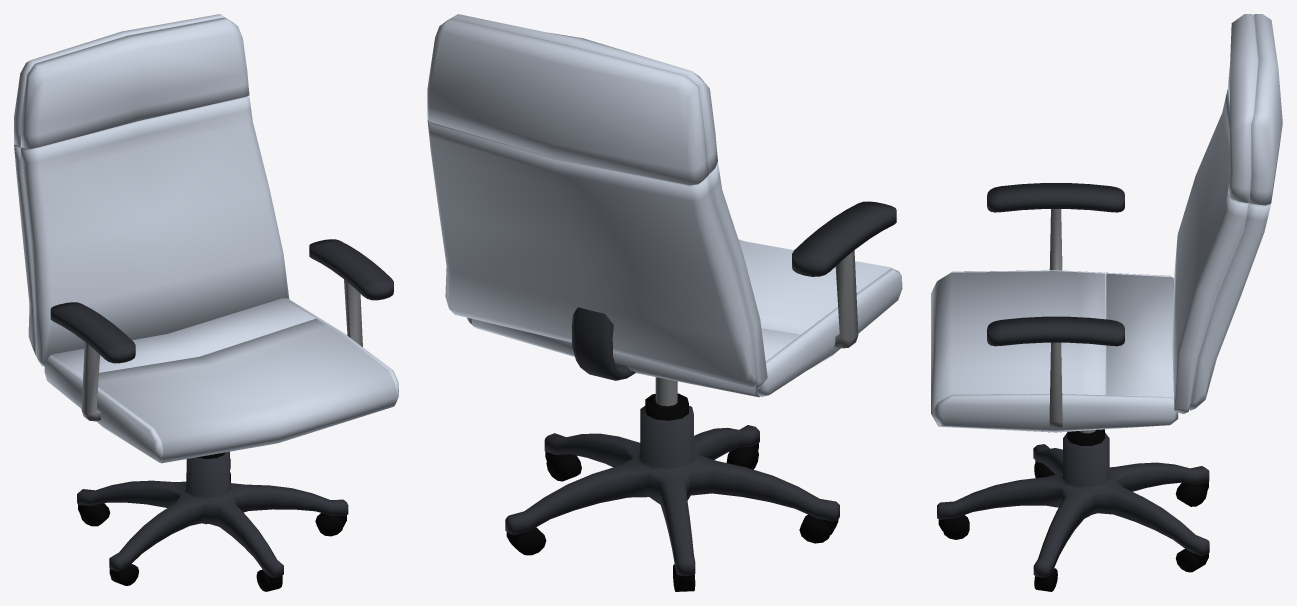
Rendered from MeetingChair.fbx.
3 renders of one model, left to right at view 1: azimuth 30°, elevation 25°; view 2: azimuth 150°, elevation 25°; view 3: azimuth 270°, elevation 25°, orthographic. The views are drawn at different scales.
Visible parts, largest first — view 1: MeetingChair; view 2: MeetingChair; view 3: MeetingChair.
Part boxes in pixels (x1,y1,x2,y2): MeetingChair: (14, 14, 398, 591); MeetingChair: (427, 14, 902, 591); MeetingChair: (931, 14, 1282, 591).
Bounding box in the file's own units: 40 × 59.93 × 40.
1 material, 1 textured.
